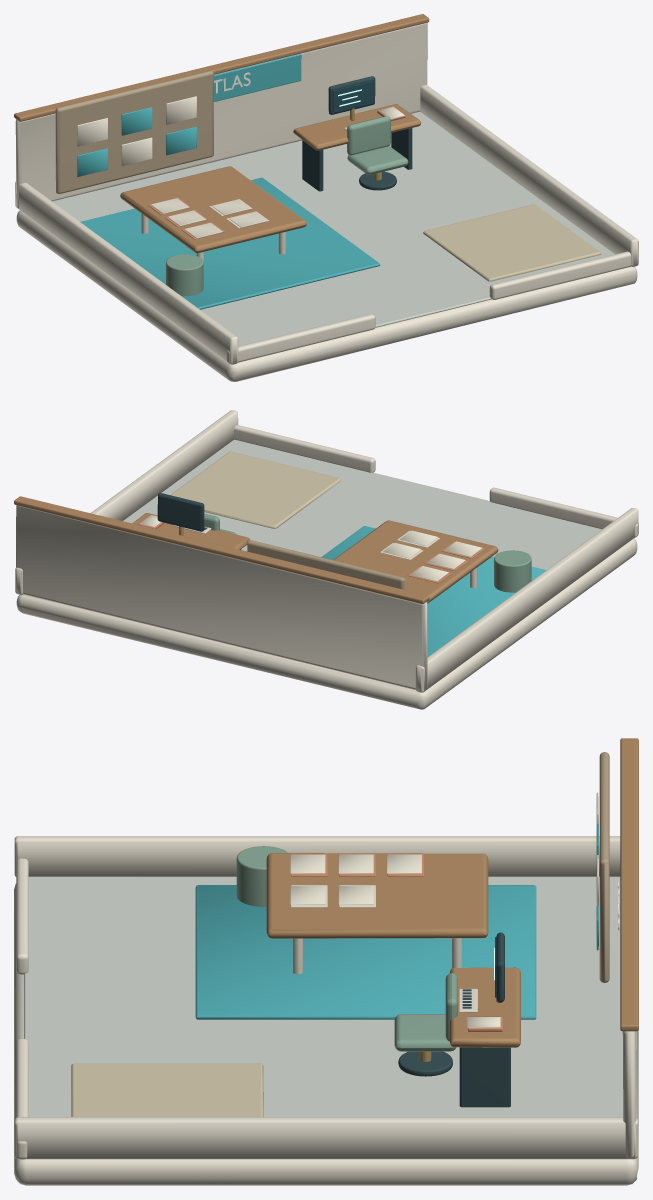
File: atlas.glb
The picture shows the model from 3 angles, top to bottom: view 1: azimuth 30°, elevation 25°; view 2: azimuth 150°, elevation 25°; view 3: azimuth 270°, elevation 25°; orthographic projection. The views are drawn at different scales.
Visible parts, largest first — view 1: Atlas / inset floor.001, Atlas / back wall.001, Atlas / planning rug.001, Atlas / foundation.001, Atlas / pin wall.001, Atlas / sleep bay.001, Atlas / planning island.001, Atlas / side knee wall.002, Atlas / side knee wall.003, Atlas / back cap.001, Atlas / entrance curb.003, Atlas / entrance curb.002 (+15 smaller); view 2: Atlas / back wall.001, Atlas / inset floor.001, Atlas / foundation.001, Atlas / sleep bay.001, Atlas / side knee wall.002, Atlas / planning island.001, Atlas / side knee wall.003, Atlas / planning rug.001, Atlas / back cap.001, Atlas / entrance curb.003, Atlas / pin wall.001, Atlas / entrance curb.002 (+3 smaller); view 3: Atlas / inset floor.001, Atlas / planning rug.001, Atlas / side knee wall.003, Atlas / foundation.001, Atlas / side knee wall.002, Atlas / planning island.001, Atlas / sleep bay.001, Atlas / back cap.001, Atlas / desk B / top.001, Atlas / desk B / trestle.003, Atlas / pin wall.001, Atlas / desk B / chair / seat.001 (+11 smaller).
Boxes of the visible parts, x1,y1,x2,y2 form: Atlas / inset floor.001: (52,111,614,346); Atlas / back wall.001: (15,22,427,208); Atlas / planning rug.001: (80,177,380,309); Atlas / foundation.001: (16,210,637,381); Atlas / pin wall.001: (55,70,213,193); Atlas / sleep bay.001: (423,204,600,281); Atlas / planning island.001: (120,166,306,253); Atlas / side knee wall.002: (15,182,238,364); Atlas / side knee wall.003: (420,85,638,266); Atlas / back cap.001: (14,14,429,121); Atlas / entrance curb.003: (489,251,631,299); Atlas / entrance curb.002: (226,314,375,363); Atlas / back wall.001: (16,505,427,690); Atlas / inset floor.001: (123,439,601,569); Atlas / foundation.001: (16,538,637,709); Atlas / sleep bay.001: (170,451,341,528); Atlas / side knee wall.002: (415,508,638,692); Atlas / planning island.001: (333,520,498,603); Atlas / side knee wall.003: (15,410,238,594); Atlas / planning rug.001: (321,526,546,656); Atlas / back cap.001: (14,496,429,603); Atlas / entrance curb.003: (234,425,375,472); Atlas / pin wall.001: (247,540,404,589); Atlas / entrance curb.002: (489,487,638,537); Atlas / inset floor.001: (24,876,623,1116); Atlas / planning rug.001: (195,885,536,1019); Atlas / side knee wall.003: (14,1117,637,1159); Atlas / foundation.001: (14,883,638,1185); Atlas / side knee wall.002: (14,836,620,876); Atlas / planning island.001: (266,853,488,938); Atlas / sleep bay.001: (71,1063,263,1116); Atlas / back cap.001: (620,738,638,1031); Atlas / desk B / top.001: (450,967,520,1047); Atlas / desk B / trestle.003: (459,1047,510,1107); Atlas / pin wall.001: (599,752,609,982); Atlas / desk B / chair / seat.001: (394,1014,456,1051).
Bounding box in the file's own units: 12 × 3.36 × 11.01.
